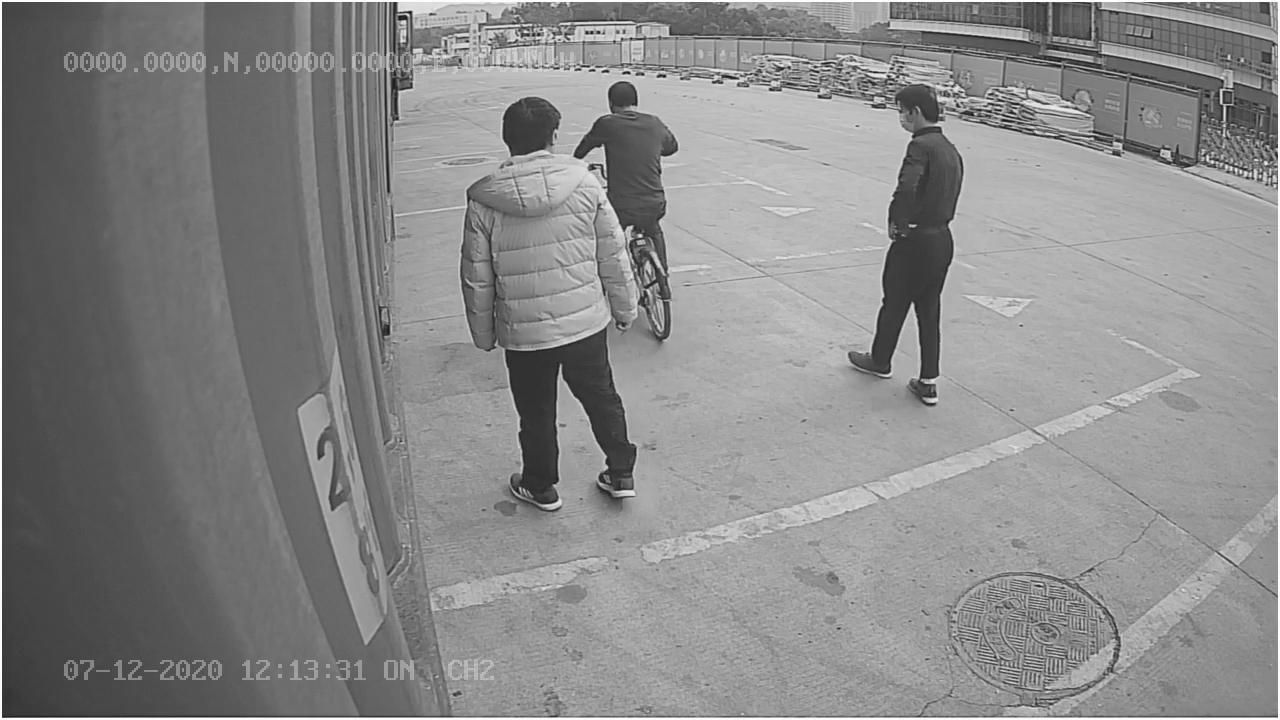person: (839, 78, 971, 412)
